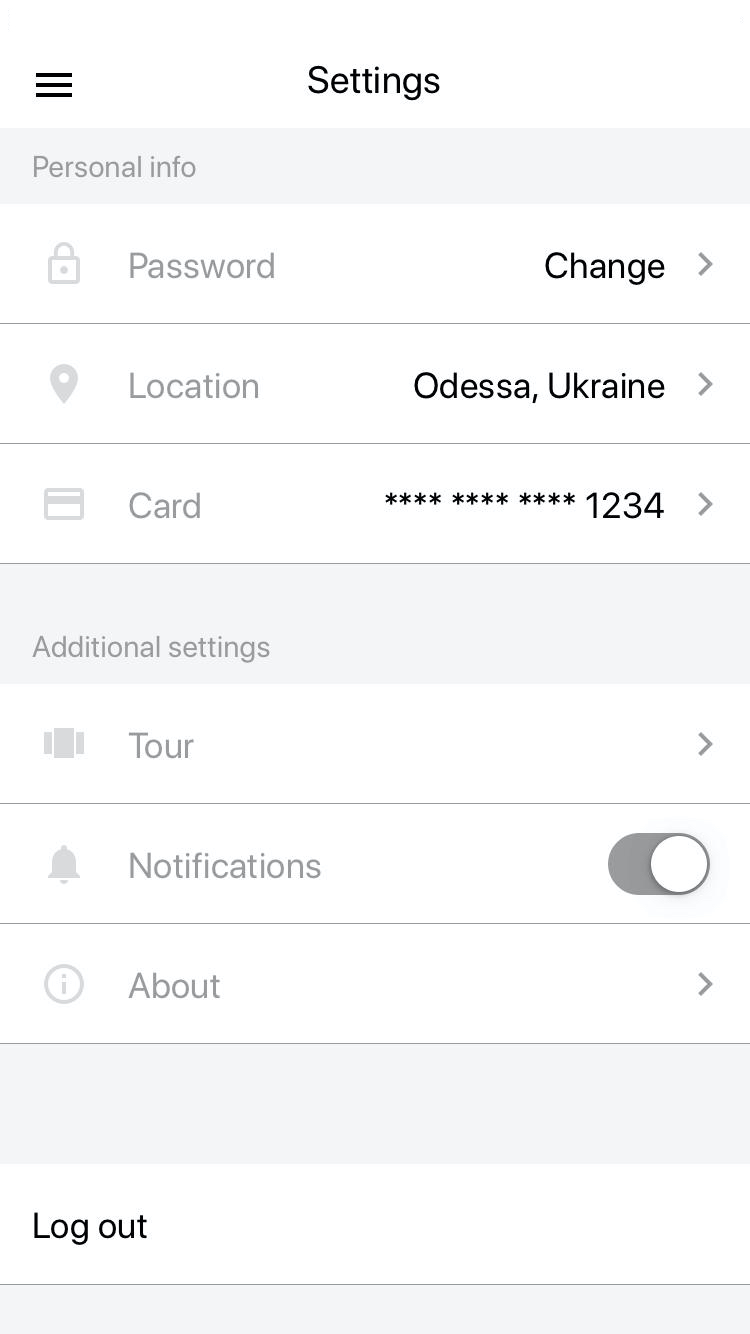Icon: (45, 963, 86, 1004), (49, 242, 82, 286), (48, 845, 82, 887), (44, 488, 86, 521), (51, 364, 79, 405), (36, 73, 75, 98), (696, 971, 714, 998), (695, 732, 714, 757), (697, 492, 714, 518), (697, 372, 714, 396), (696, 252, 712, 277)
Image: (43, 728, 86, 759)
Switch: (608, 832, 711, 896)
Text: (413, 372, 666, 406), (384, 491, 665, 520), (31, 634, 271, 665), (130, 851, 323, 881), (308, 67, 441, 101), (30, 1208, 147, 1245), (544, 252, 666, 287), (130, 251, 276, 280), (33, 155, 198, 179), (130, 372, 260, 400), (128, 972, 222, 1000), (127, 731, 196, 761), (130, 491, 201, 520)
